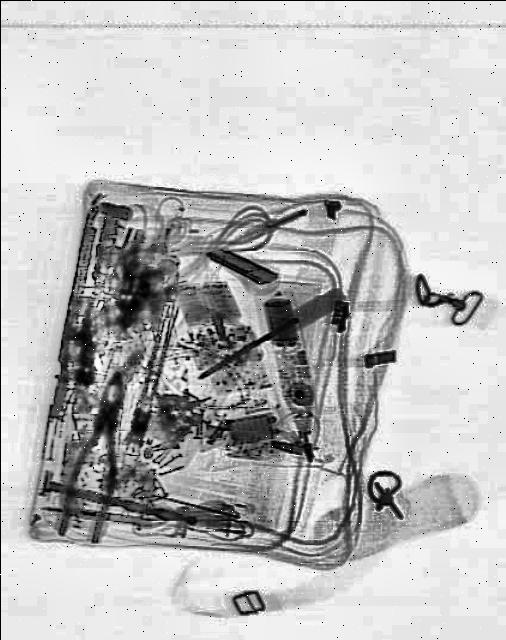Pliers: (55, 360, 140, 546)
